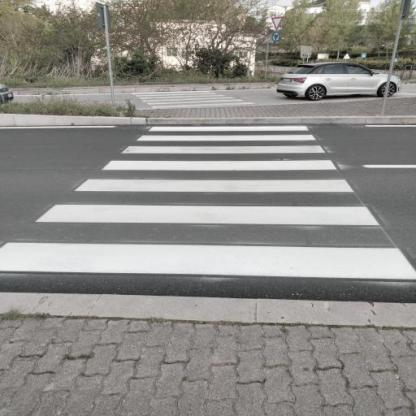crosswalk: (0, 198, 416, 292), (93, 141, 368, 177)
